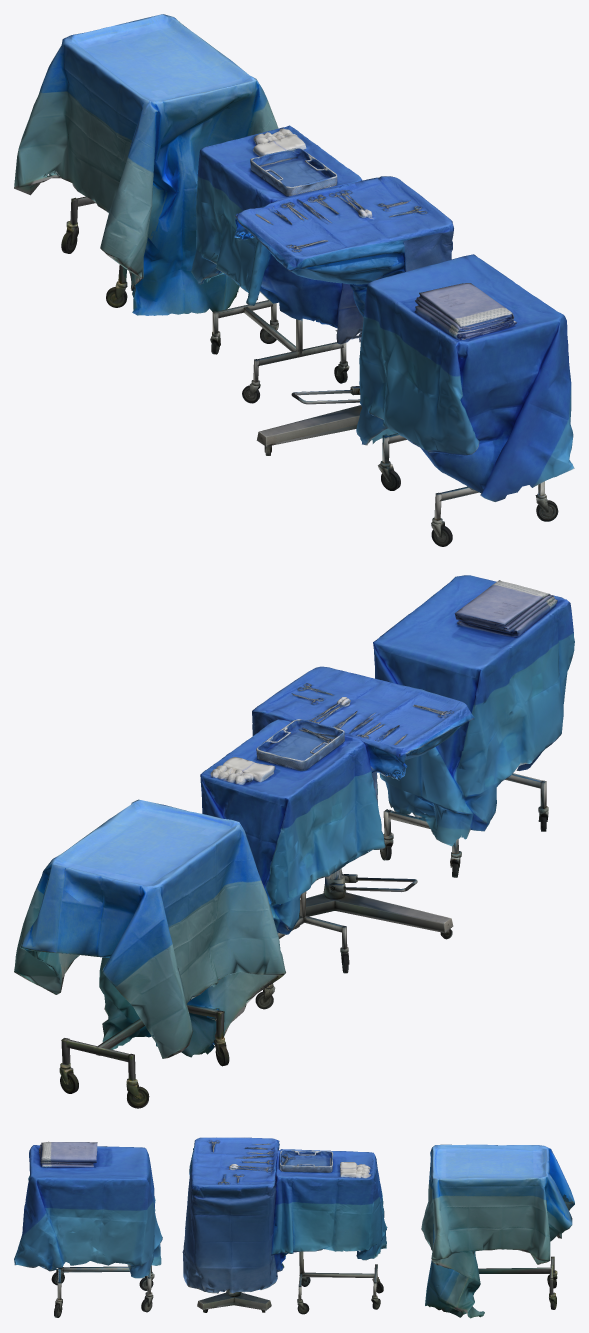
The model's file is surgical__instrument_table_collection.glb.
The picture shows the model from 3 angles, top to bottom: view 1: azimuth 30°, elevation 25°; view 2: azimuth 150°, elevation 25°; view 3: azimuth 270°, elevation 25°; orthographic projection. The views are drawn at different scales.
Visible parts, largest first — view 1: Object_2, Object_3, Object_4; view 2: Object_2, Object_4, Object_3; view 3: Object_4, Object_2, Object_3.
Part boxes in pixels (box(x1,y1,x2,y2)): Object_2: box(14, 14, 278, 315); Object_3: box(356, 254, 574, 546); Object_4: box(191, 125, 453, 455); Object_2: box(14, 799, 285, 1108); Object_4: box(200, 666, 474, 1009); Object_3: box(373, 575, 574, 877); Object_4: box(182, 1137, 387, 1314); Object_2: box(421, 1144, 574, 1318); Object_3: box(14, 1141, 162, 1317).
Size of the model in its own units: 1.08 by 1.23 by 4.29.
Materials: 3 (3 with a texture image).
